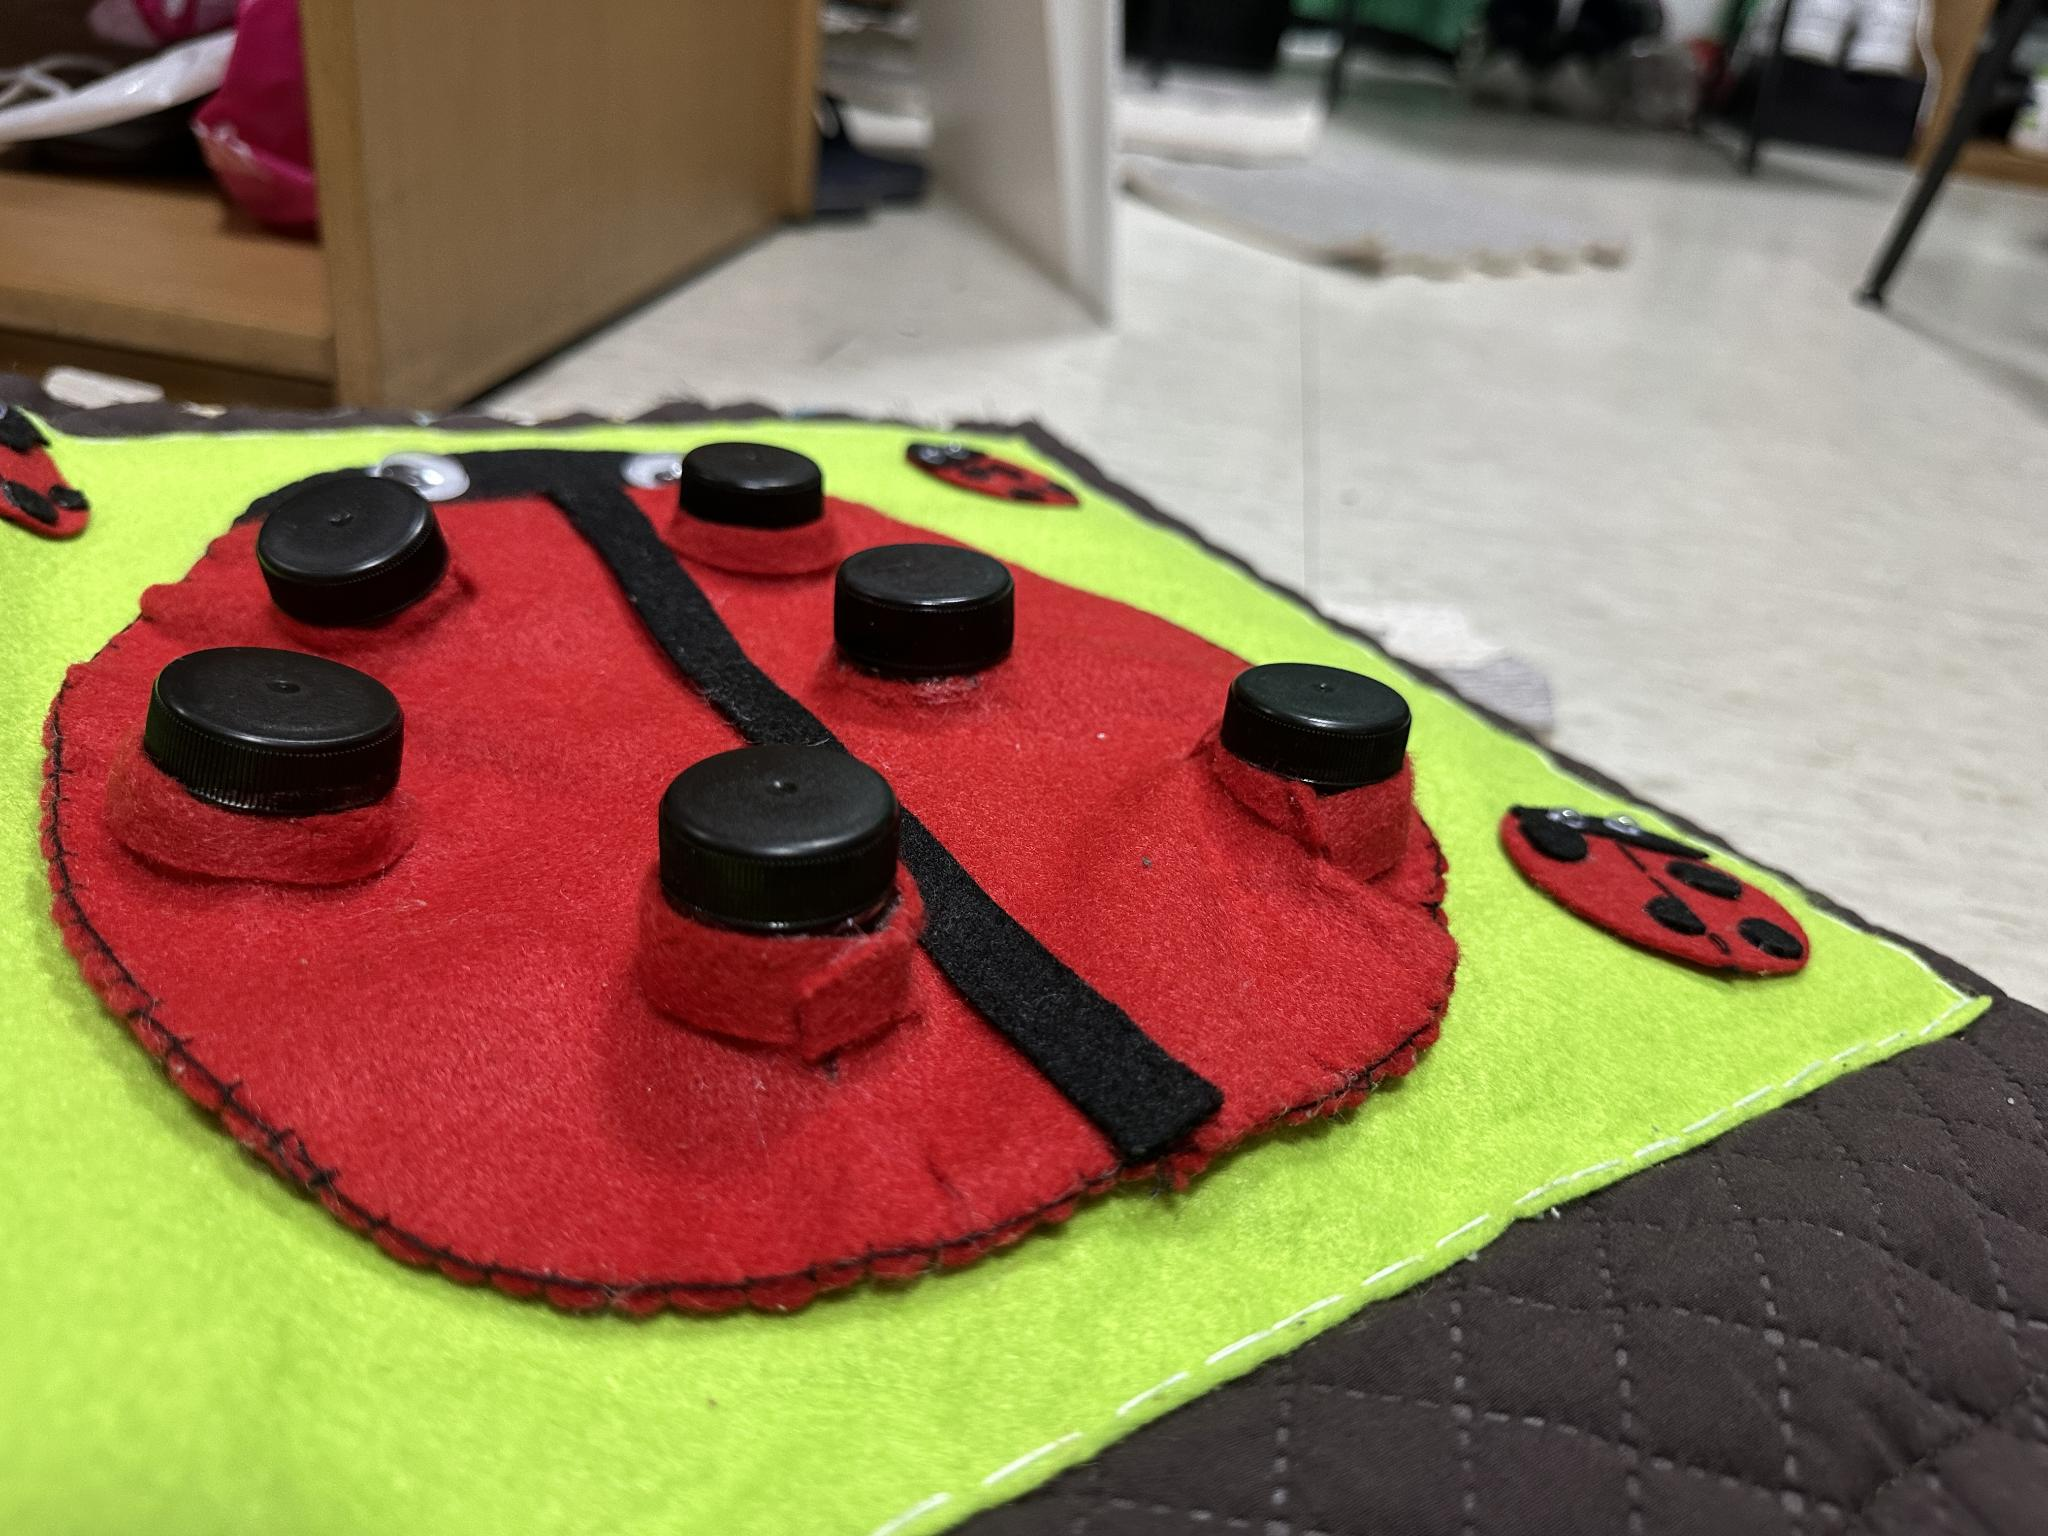cap_ok: (608, 729, 956, 1091), (106, 644, 435, 902), (1193, 641, 1438, 907), (813, 521, 1042, 708), (239, 473, 479, 647), (648, 416, 840, 571)
